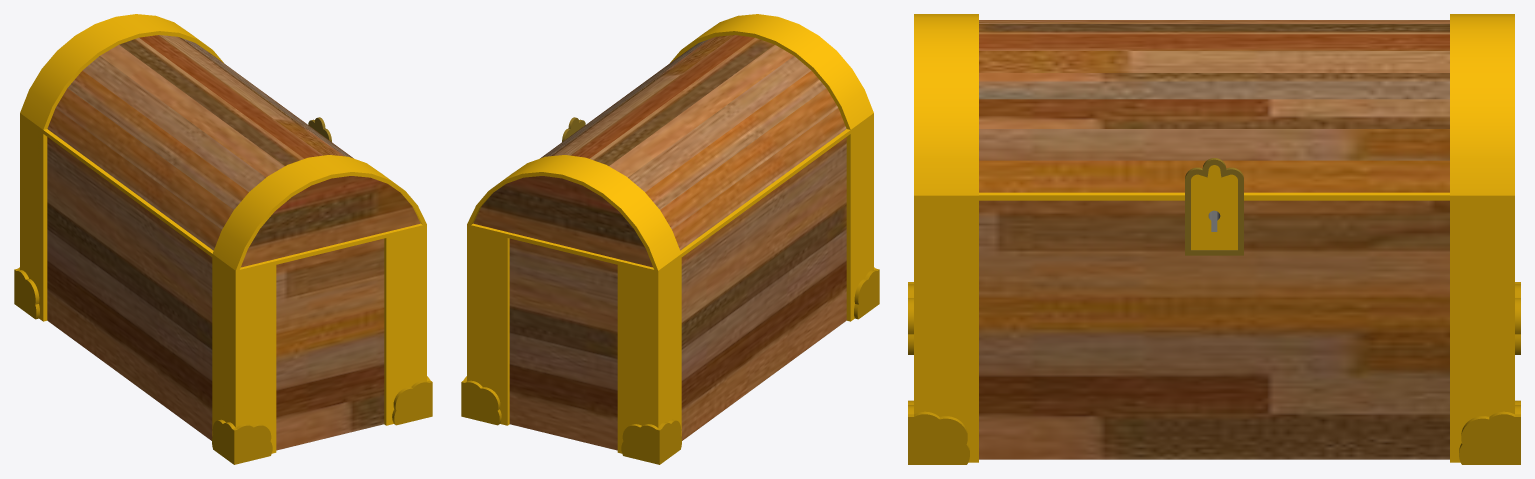
Rendered from Bau.fbx.
3 renders of one model, left to right at view 1: azimuth 30°, elevation 25°; view 2: azimuth 150°, elevation 25°; view 3: azimuth 270°, elevation 25°, orthographic. The views are drawn at different scales.
Parts seen in each view (by area): view 1: Medeira, AreaDeDetalhe, Detalhe4, Detalhe1, Detalhe3; view 2: Medeira, AreaDeDetalhe, Detalhe3, Detalhe2, Detalhe4; view 3: Medeira, AreaDeDetalhe, AreaFechadura, Detalhe1, Detalhe2, DetalheFechadura.
Boxes of the visible parts, x1,y1,x2,y2 form: Medeira: [47, 35, 420, 450]; AreaDeDetalhe: [20, 14, 426, 453]; Detalhe4: [212, 419, 272, 464]; Detalhe1: [392, 376, 432, 425]; Detalhe3: [14, 267, 39, 319]; Medeira: [473, 35, 846, 450]; AreaDeDetalhe: [467, 14, 873, 453]; Detalhe3: [621, 419, 681, 464]; Detalhe2: [461, 376, 501, 425]; Detalhe4: [854, 267, 879, 319]; Medeira: [979, 20, 1449, 459]; AreaDeDetalhe: [914, 14, 1514, 462]; AreaFechadura: [1191, 165, 1237, 249]; Detalhe1: [908, 400, 969, 464]; Detalhe2: [1459, 400, 1520, 464]; DetalheFechadura: [1185, 158, 1243, 255].
Bounding box in the file's own units: 0.542 × 0.6901 × 1.04.
